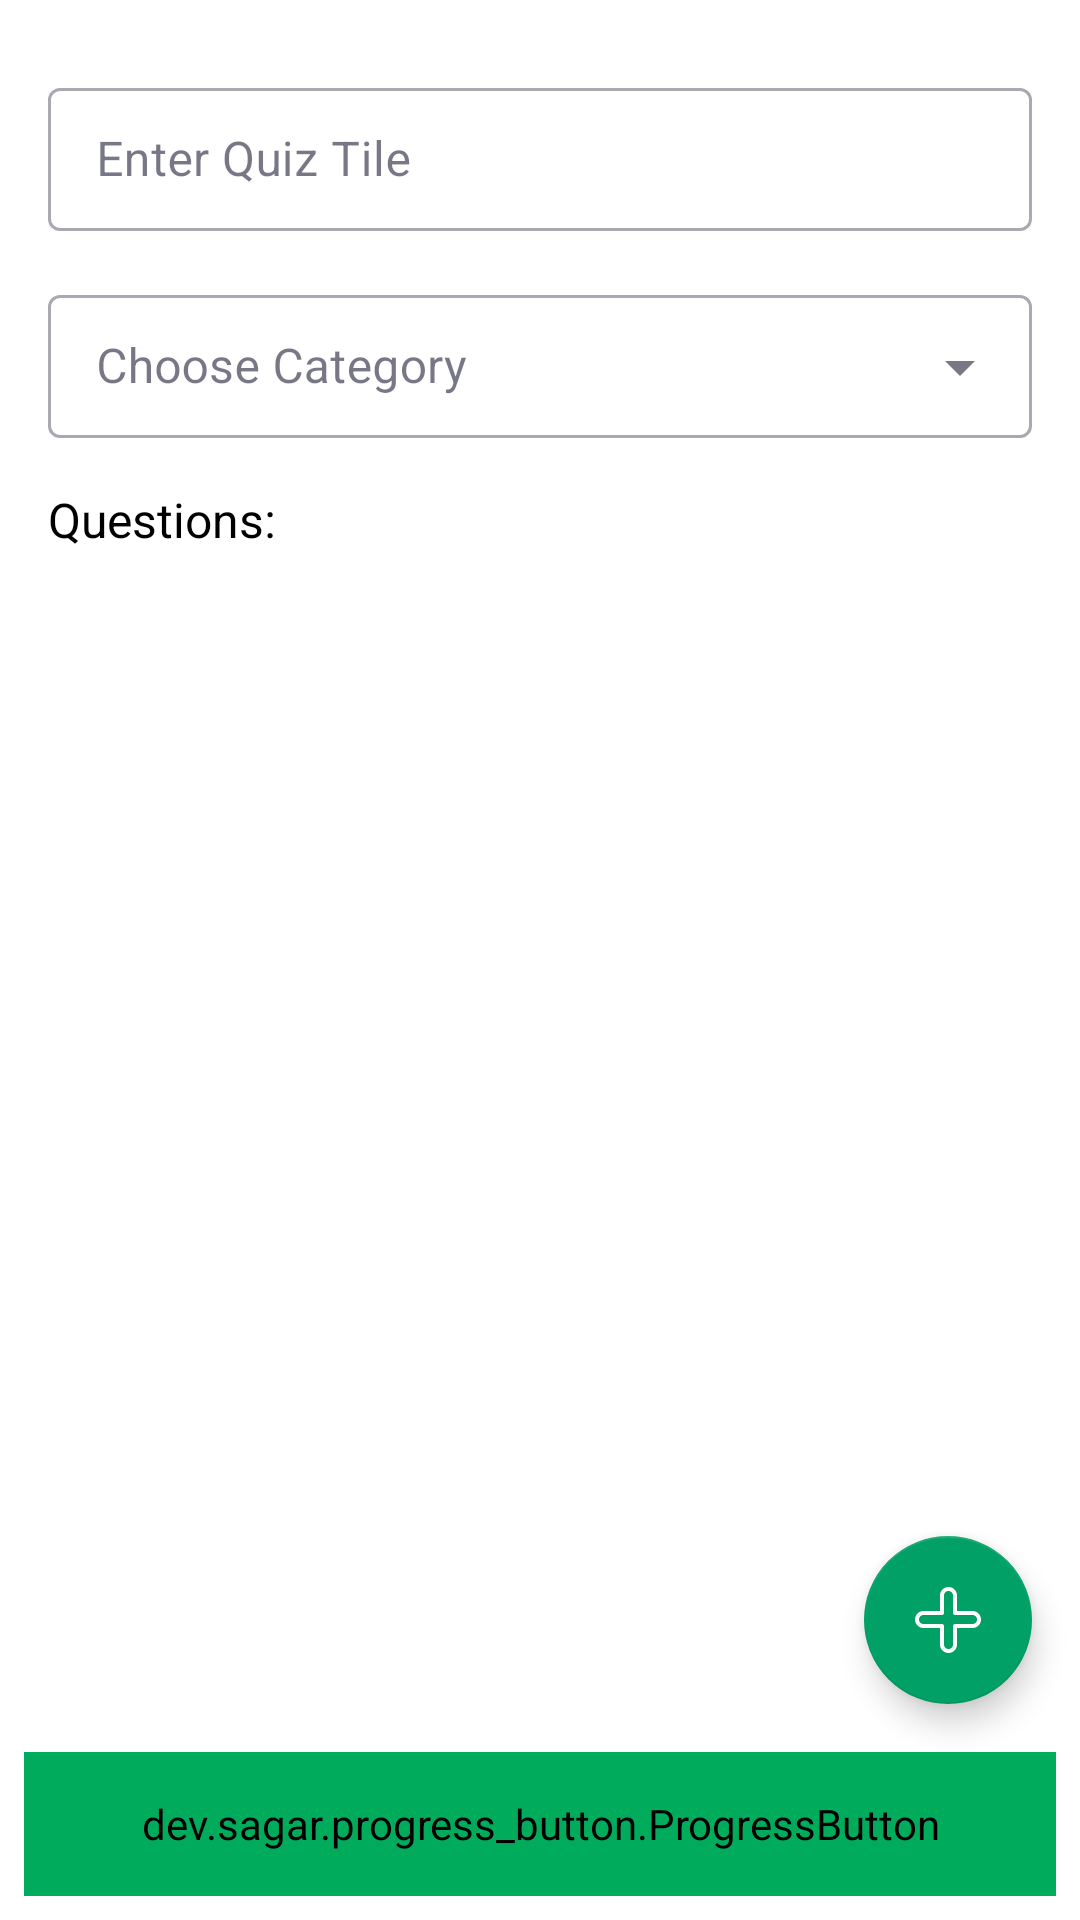

Screen size 1080x1920. Icon name, then its box in pixels as (x1, y1, x2, y2):
Add Question: (864, 1536, 1032, 1704)
